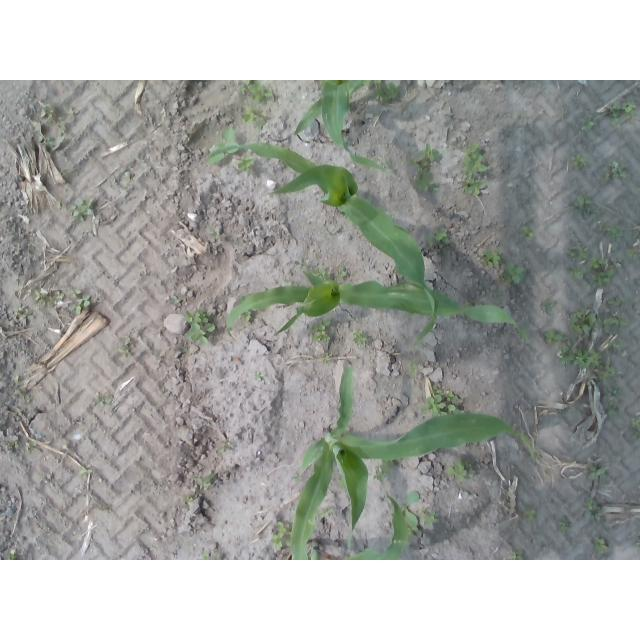Maize: (290, 362, 540, 560), (207, 142, 439, 350), (225, 272, 533, 347), (294, 80, 399, 178), (301, 494, 409, 560)
Weeds: (419, 383, 465, 417), (409, 142, 440, 192), (461, 142, 487, 195), (558, 340, 603, 369), (182, 307, 215, 346), (207, 126, 240, 162), (34, 121, 67, 152), (398, 490, 420, 536), (569, 307, 602, 336), (588, 256, 615, 288), (239, 80, 273, 104), (445, 457, 476, 483), (363, 80, 398, 100), (607, 102, 637, 125), (240, 105, 265, 132), (271, 522, 294, 551), (34, 288, 65, 309), (601, 160, 627, 185), (573, 195, 600, 219), (69, 288, 92, 314), (502, 262, 526, 286), (72, 199, 95, 222), (375, 458, 394, 483), (426, 228, 451, 247), (313, 319, 332, 343), (14, 302, 35, 323), (585, 497, 604, 520), (608, 386, 623, 415), (597, 224, 624, 240), (587, 460, 608, 480), (602, 316, 627, 332), (310, 265, 332, 283), (568, 243, 590, 261), (598, 361, 616, 382), (237, 155, 257, 173), (118, 335, 134, 357), (418, 510, 438, 527), (194, 473, 216, 488), (545, 329, 568, 343), (594, 536, 610, 556), (38, 103, 55, 121), (483, 250, 502, 266), (570, 154, 587, 171), (352, 329, 367, 348), (14, 389, 32, 404), (94, 395, 114, 408), (630, 416, 640, 441), (607, 295, 626, 307), (207, 225, 221, 241), (519, 224, 533, 240), (558, 516, 570, 534), (581, 117, 596, 131), (23, 440, 39, 453), (570, 267, 586, 280), (183, 490, 200, 502), (522, 507, 535, 521), (200, 552, 220, 561), (509, 548, 524, 560), (607, 341, 622, 352), (410, 361, 419, 379), (242, 309, 252, 324), (542, 300, 554, 312), (337, 266, 348, 279), (320, 509, 333, 520), (337, 476, 348, 489), (171, 294, 186, 303), (79, 467, 94, 476), (7, 439, 19, 450), (64, 104, 74, 116), (464, 301, 483, 307), (253, 371, 264, 381), (321, 352, 331, 363), (6, 549, 16, 560), (627, 249, 638, 258), (532, 451, 542, 459), (493, 290, 503, 298), (12, 374, 20, 383), (123, 170, 132, 178), (218, 447, 227, 454), (57, 199, 63, 209), (635, 537, 640, 549), (294, 260, 302, 267), (59, 168, 65, 176), (295, 475, 302, 481)
